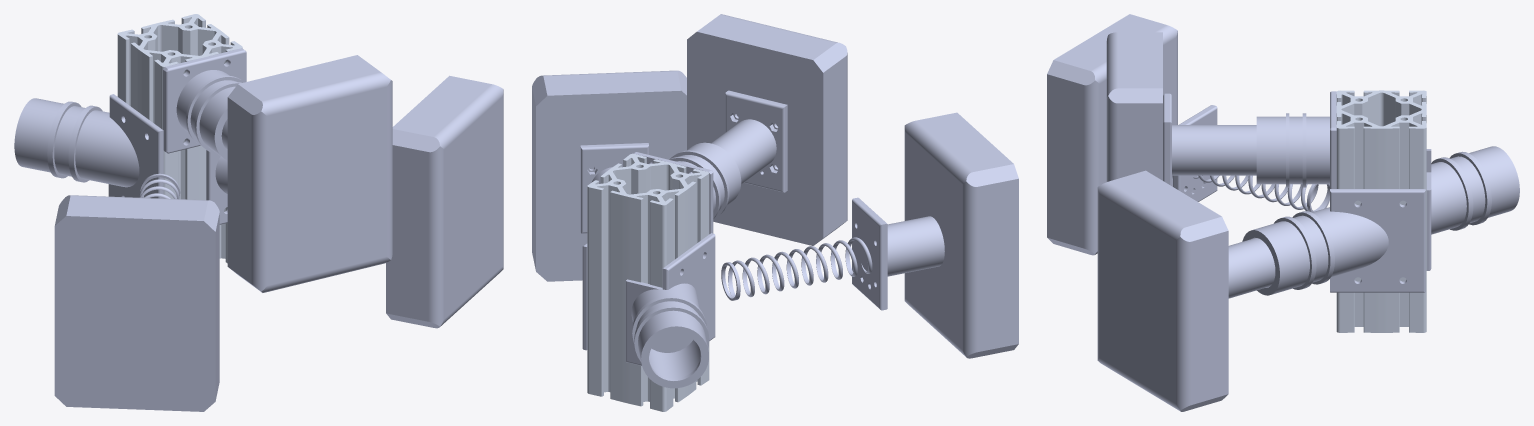
Rendered from iteration_4_final.glb.
The picture shows the model from 3 angles, left to right: view 1: azimuth 30°, elevation 25°; view 2: azimuth 150°, elevation 25°; view 3: azimuth 270°, elevation 25°; orthographic projection. The views are drawn at different scales.
Parts seen in each view (by area): view 1: Final Iteration Foam Mounts, foam-1, Mirrorfoam-3, spring_mount_iteration_5-1, Mirrorspring_side_mount_iteration_4-2; view 2: Final Iteration Foam Mounts, foam-1, Mirrorfoam-3, foam_mount_iteration_4-1, spring_mount_iteration_5-1, Mirrorfoam_mount_iteration_4-4, Mirrorspring_side_mount_iteration_4-2; view 3: Final Iteration Foam Mounts, Mirrorfoam-3, Mirrorspring_side_mount_iteration_4-2, foam-1, spring_mount_iteration_5-1, foam_mount_iteration_4-1, Mirrorfoam_mount_iteration_4-4.
Part boxes in pixels (<box>): Final Iteration Foam Mounts: <box>14,14,242,411</box>; foam-1: <box>227,55,392,292</box>; Mirrorfoam-3: <box>386,75,503,328</box>; spring_mount_iteration_5-1: <box>163,48,246,160</box>; Mirrorspring_side_mount_iteration_4-2: <box>206,150,227,224</box>; Final Iteration Foam Mounts: <box>587,112,1018,411</box>; foam-1: <box>687,14,847,245</box>; Mirrorfoam-3: <box>532,70,686,281</box>; foam_mount_iteration_4-1: <box>711,90,787,192</box>; spring_mount_iteration_5-1: <box>634,142,741,233</box>; Mirrorfoam_mount_iteration_4-4: <box>580,143,648,233</box>; Mirrorspring_side_mount_iteration_4-2: <box>582,243,587,350</box>; Final Iteration Foam Mounts: <box>1047,14,1519,332</box>; Mirrorfoam-3: <box>1097,170,1228,411</box>; Mirrorspring_side_mount_iteration_4-2: <box>1242,189,1425,295</box>; foam-1: <box>1106,32,1162,181</box>; spring_mount_iteration_5-1: <box>1256,91,1336,188</box>; foam_mount_iteration_4-1: <box>1163,93,1256,185</box>; Mirrorfoam_mount_iteration_4-4: <box>1228,238,1275,298</box>.
Size of the model in its own units: 0.4664 by 0.25 by 0.4196.
